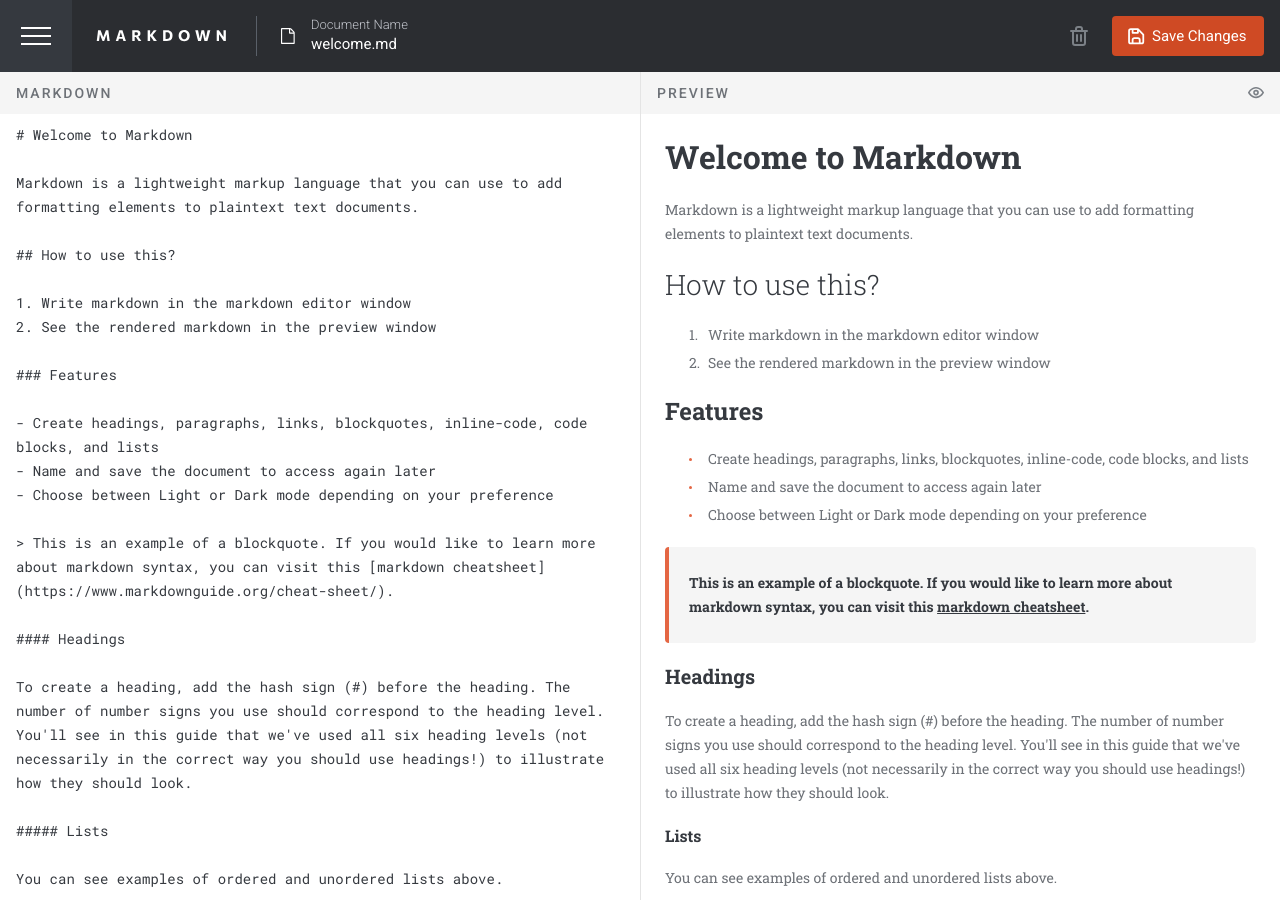
Test: MarkdownApp panes › renders the preview from what is typed
Click the button named "Delete document": point(1079, 36) left=1058, top=14, right=1100, bottom=58
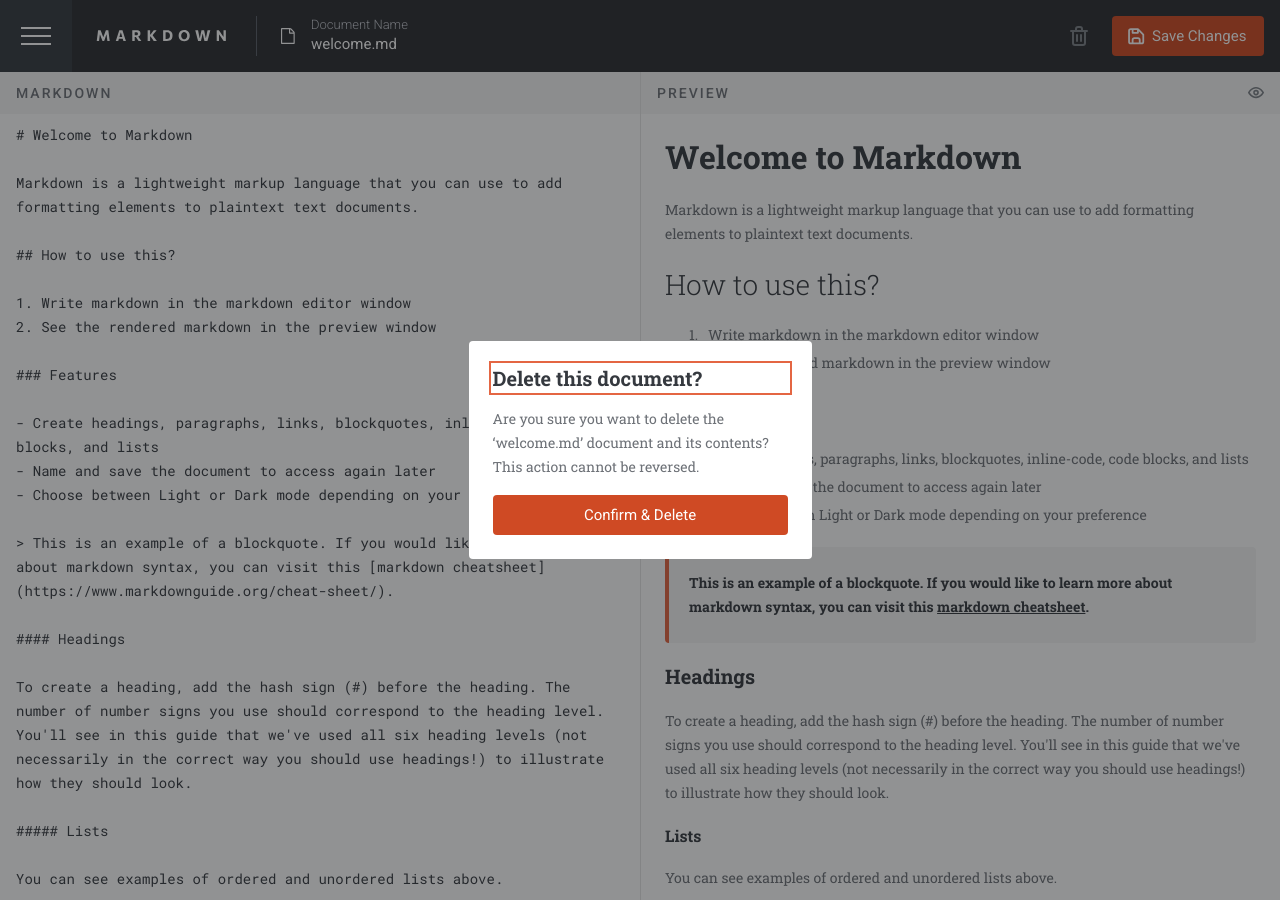
Click the button "Confirm & Delete": point(640, 515) left=492, top=495, right=788, bottom=535
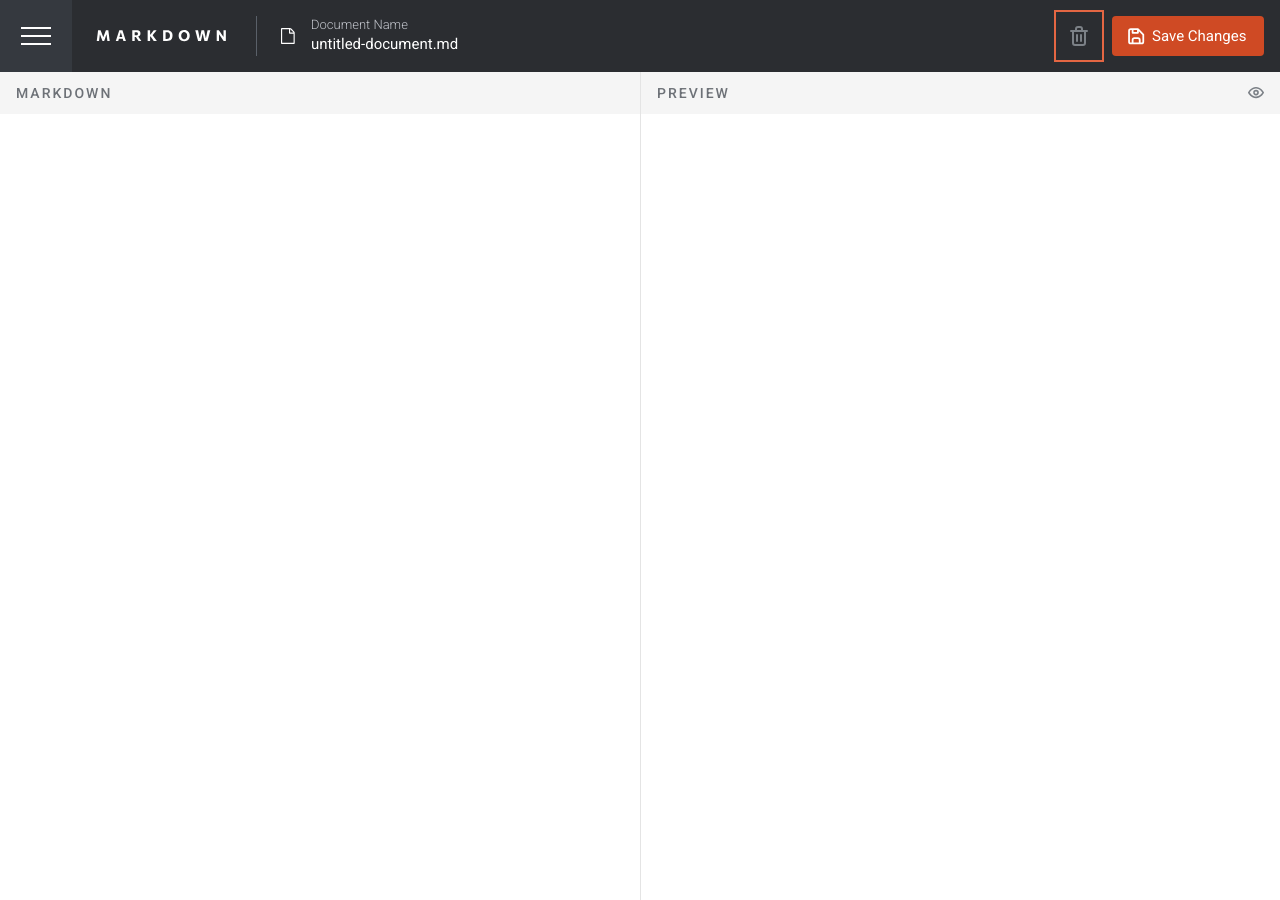
Now the text box labelled "Markdown" is empty
In the text box labelled "Markdown": point(320, 507) left=0, top=114, right=640, bottom=899, type "## Fresh start"
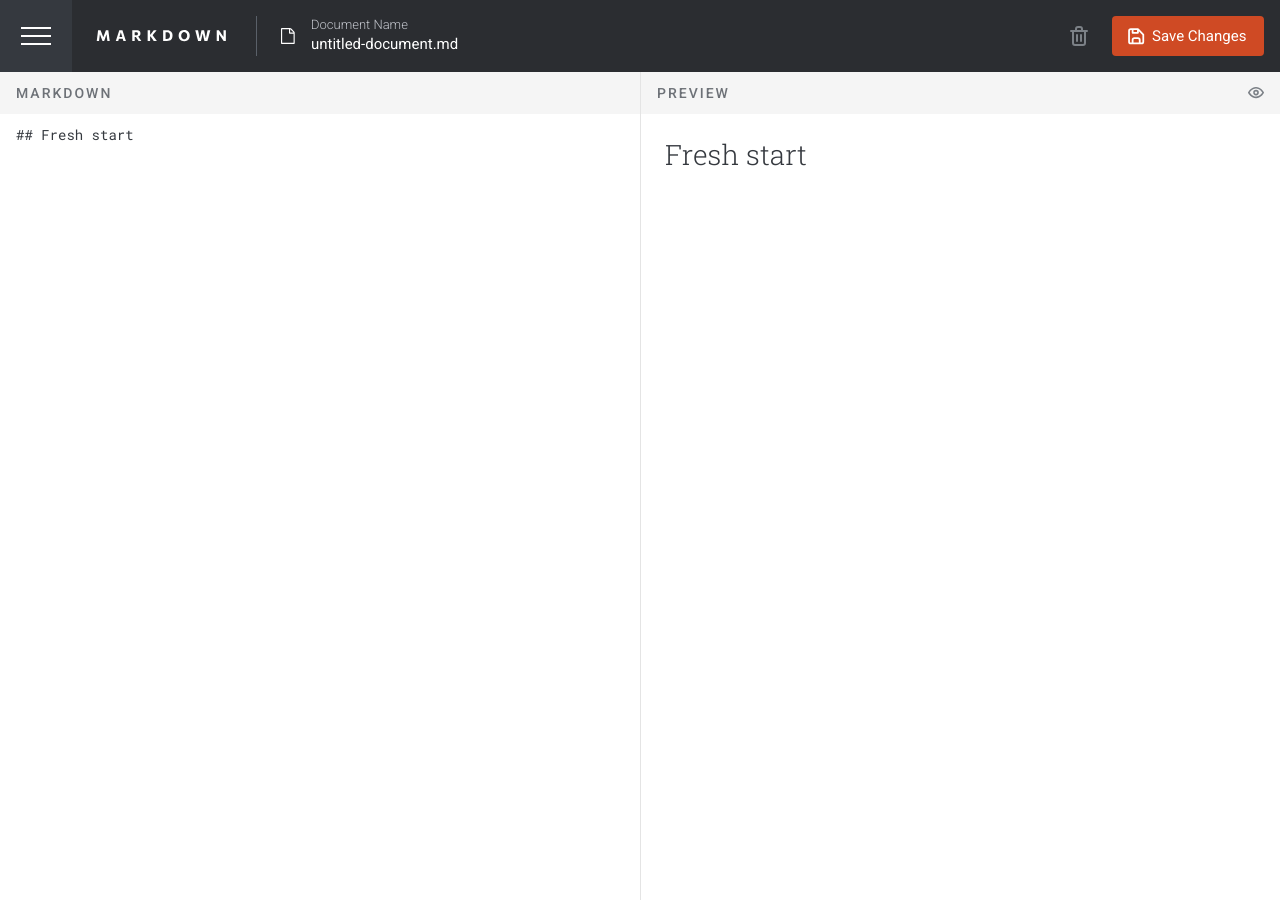
Now the heading "Fresh start" is shown, box left=665, top=136, right=807, bottom=173
